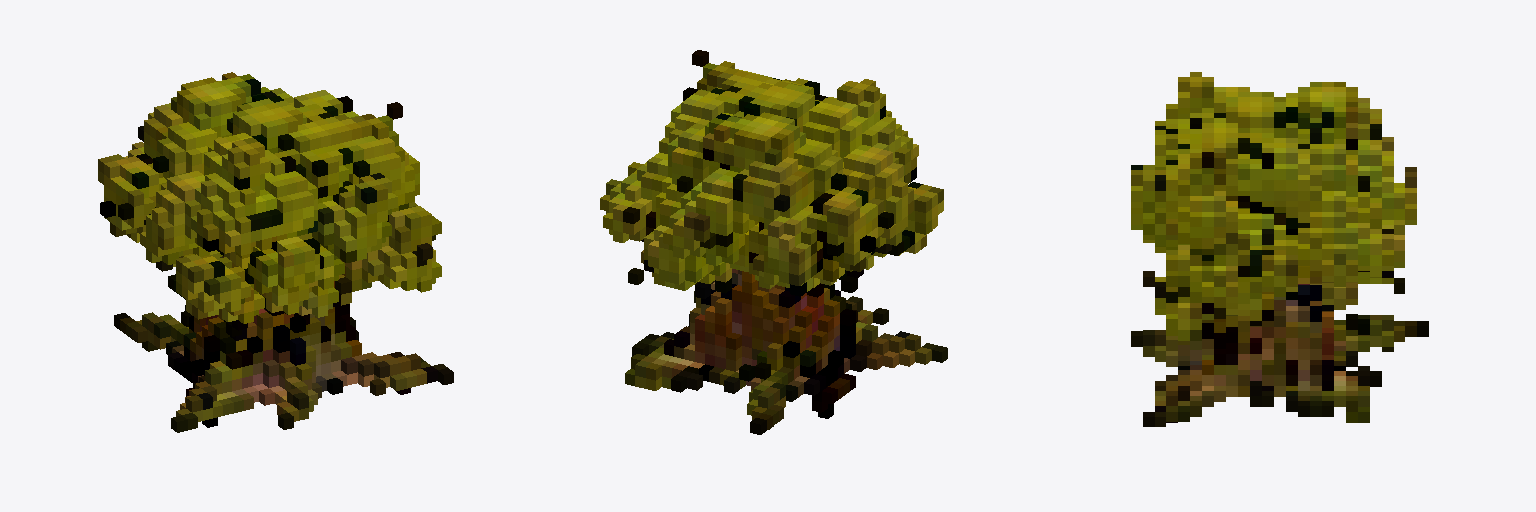
File: iter_500.obj
3 renders of one model, left to right at view 1: azimuth 30°, elevation 25°; view 2: azimuth 150°, elevation 25°; view 3: azimuth 270°, elevation 25°, orthographic.
Parts seen in each view (by area): view 1: iter_500; view 2: iter_500; view 3: iter_500.
Part boxes in pixels (x1,y1,x2,y2): iter_500: (98, 72, 453, 432); iter_500: (600, 50, 947, 434); iter_500: (1131, 72, 1428, 426).
Bounding box in the file's own units: 2.5 × 2.8 × 2.5.